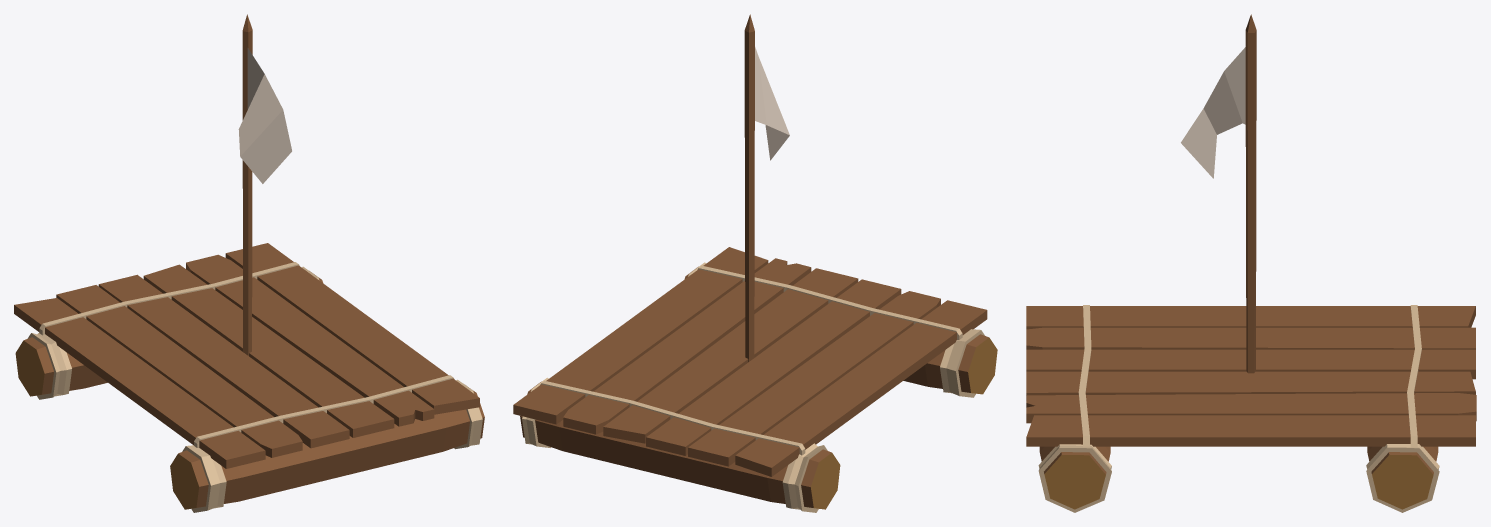
Rendered from raft.glb.
The picture shows the model from 3 angles, left to right: view 1: azimuth 30°, elevation 25°; view 2: azimuth 150°, elevation 25°; view 3: azimuth 270°, elevation 25°; orthographic projection. The views are drawn at different scales.
Visible parts, largest first — view 1: raft; view 2: raft; view 3: raft.
Boxes of the visible parts, x1=… form: raft: x1=14, y1=14, x2=484, y2=512; raft: x1=513, y1=14, x2=997, y2=512; raft: x1=1026, y1=14, x2=1476, y2=512.
Size of the model in its own units: 2.09 by 2.83 by 2.69.
1 material, 1 textured.
